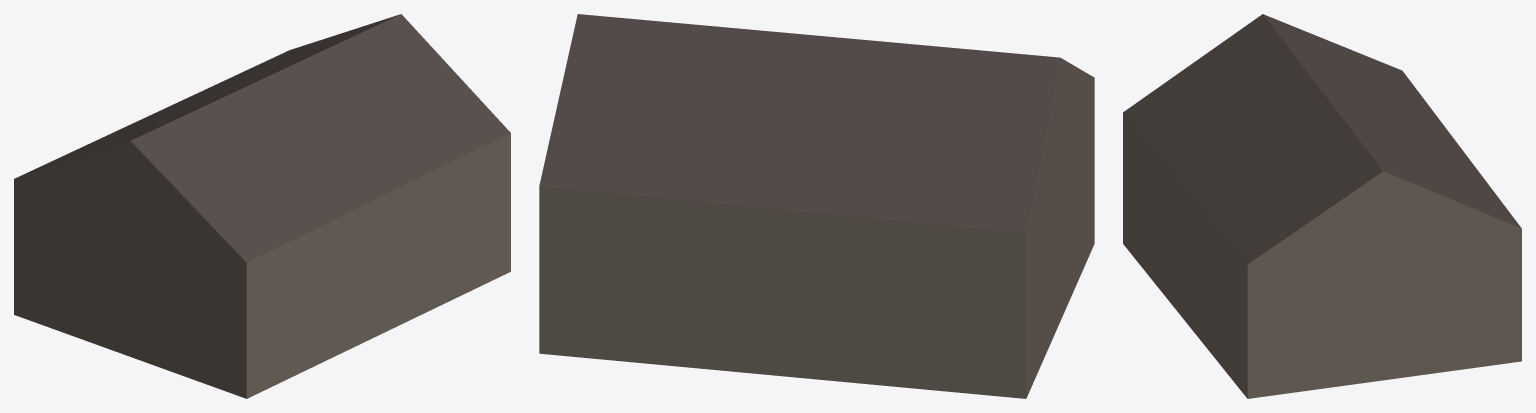
3 views of the same model, side by side, from view 1: azimuth 30°, elevation 25°; view 2: azimuth 150°, elevation 25°; view 3: azimuth 270°, elevation 25° (orthographic). The views are drawn at different scales.
Visible parts, largest first — view 1: HP-w369317488; view 2: HP-w369317488; view 3: HP-w369317488.
Boxes of the visible parts, x1,y1,x2,y2 form: HP-w369317488: (14,14,510,398); HP-w369317488: (539,14,1094,398); HP-w369317488: (1123,14,1521,398).
Bounding box in the file's own units: 19.24 × 9.53 × 16.48.
